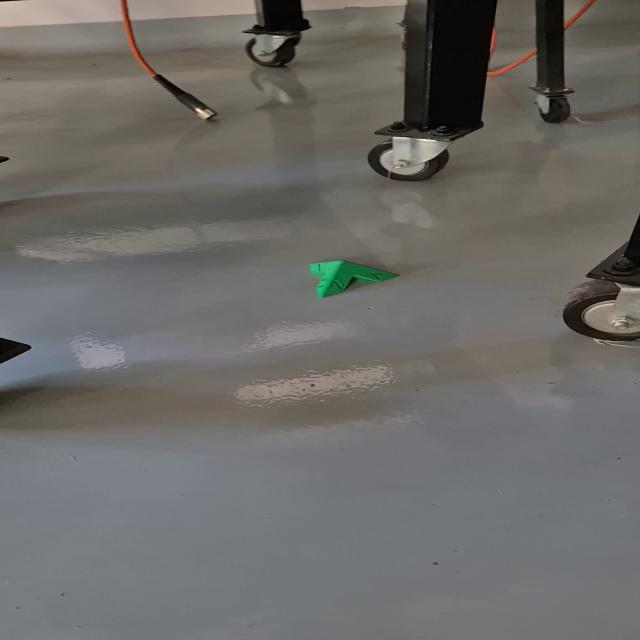objects: (308, 259, 402, 299)
